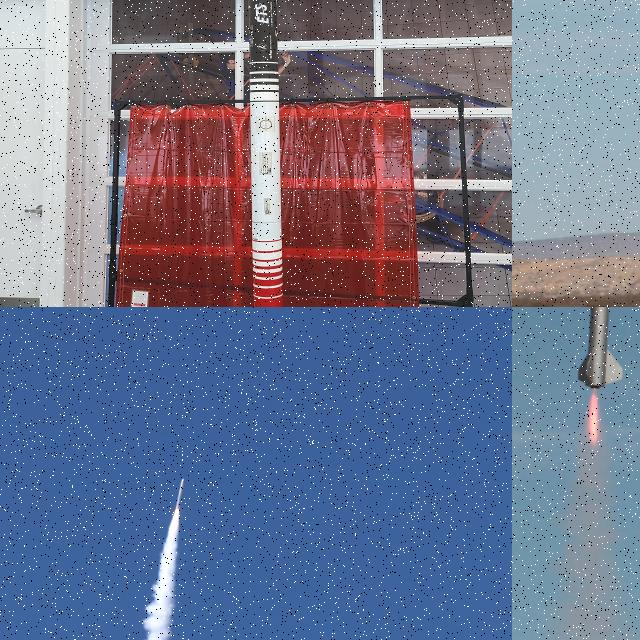Rocket: (248, 0, 283, 307), (574, 307, 625, 391), (173, 478, 185, 510)
